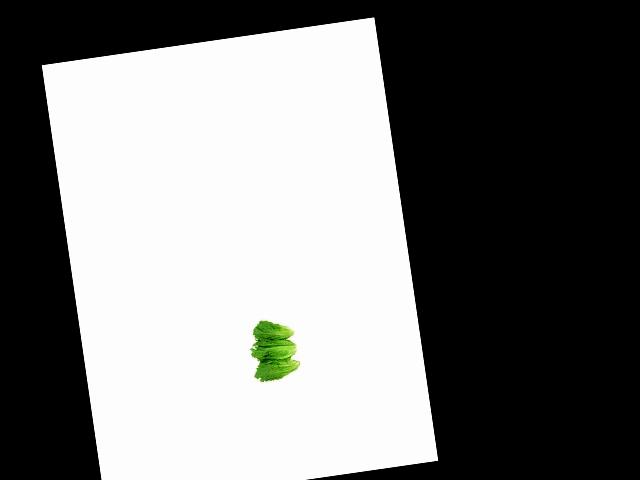lettuce: (250, 314, 305, 346)
